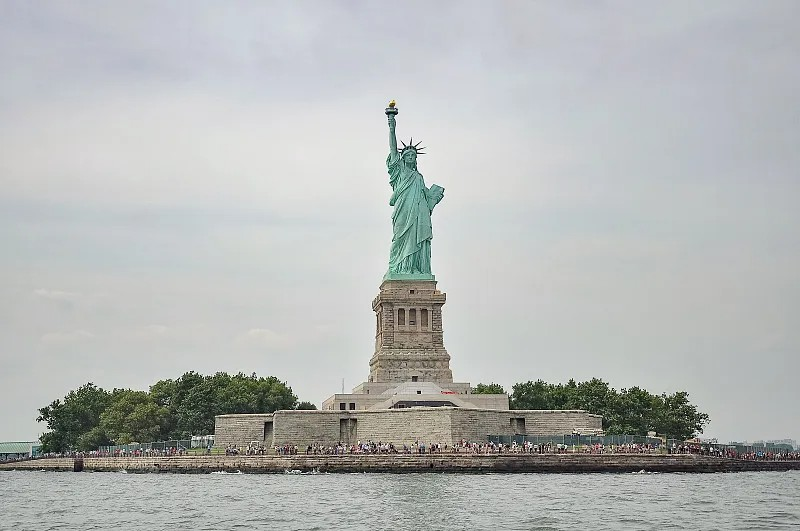SL: (368, 97, 452, 382)
